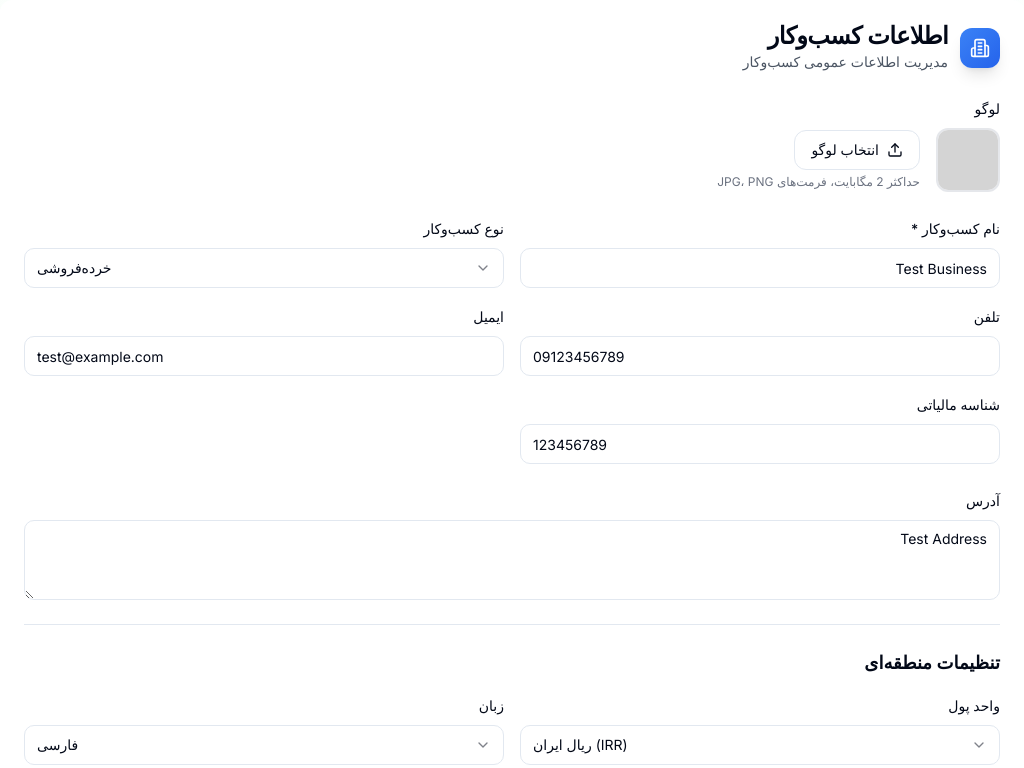
Test: TenantSettings › should handle business type selection
Expected: the heading "اطلاعات کسب‌وکار" is shown, x1=743 y1=24 x2=948 y2=48
// Find and click the business type select trigger (first combobox)
Click the dropdown labelled "خرده‌فروشی" at (74, 268), box x1=24 y1=248 x2=504 y2=288
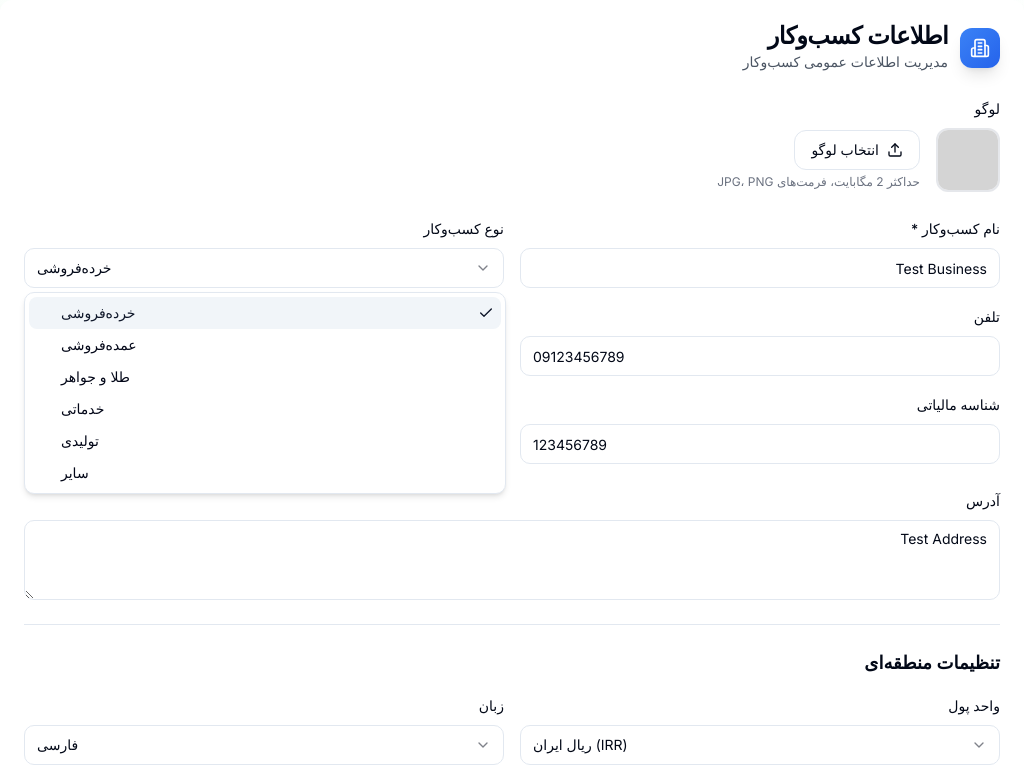
// Select a different business type
Click the option "طلا و جواهر" at (96, 376), box x1=61 y1=368 x2=130 y2=385
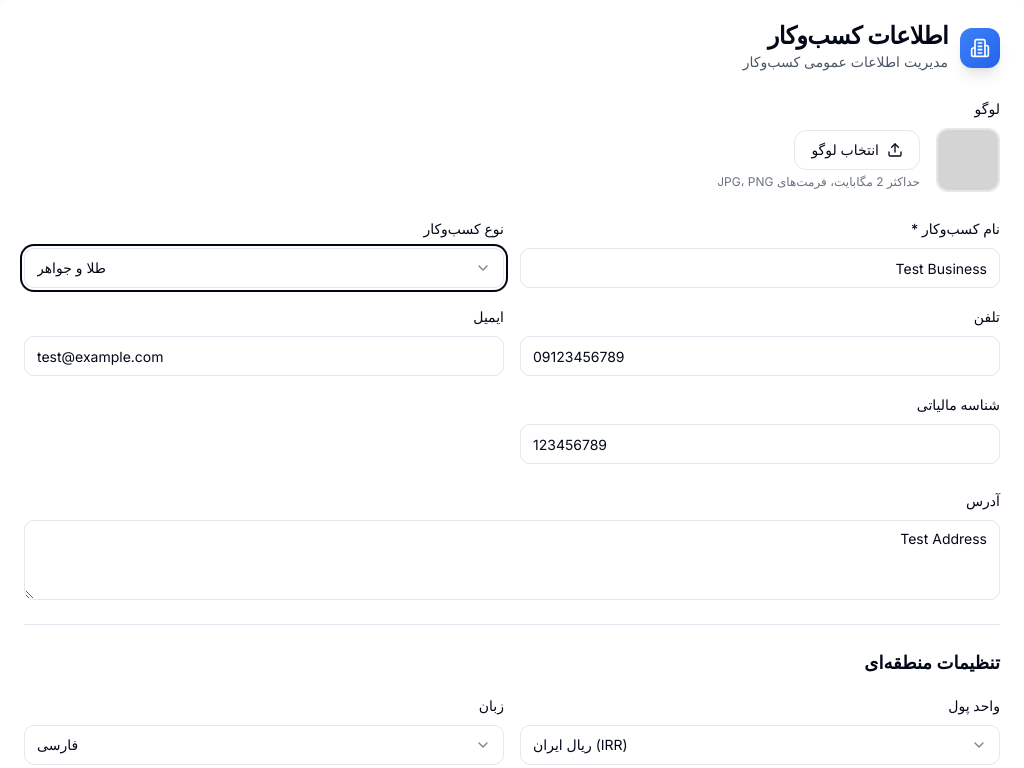
Now the text "طلا و جواهر" is shown, box x1=37 y1=258 x2=106 y2=278
